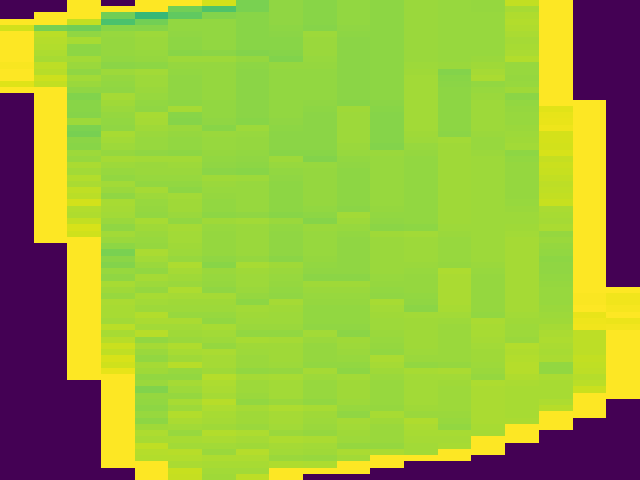cylinder: (1, 2, 640, 480)
